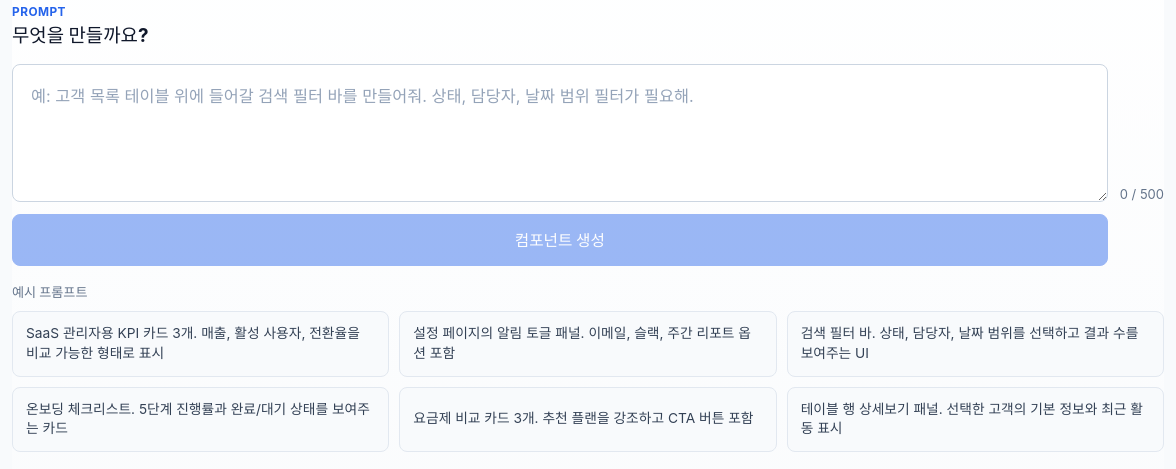
Test: PromptInput › 입력 길이를 "n / 500" 형태로 보여준다
In the text box: (560, 133) [12,64,1108,202], type "카드"
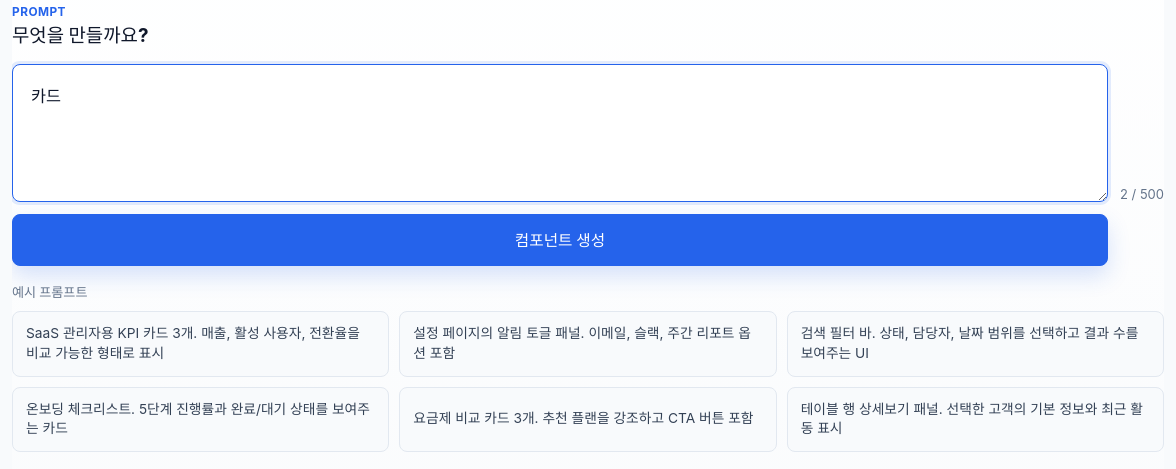
Result: the text "2 / 500" is shown at [1120,186,1164,202]
